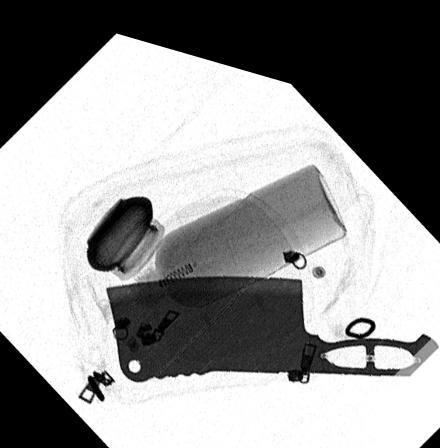Knife: (103, 260, 440, 374)
